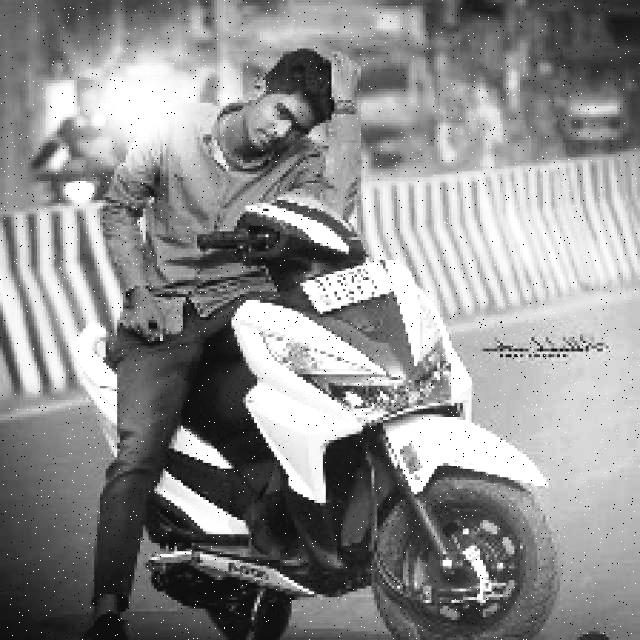Bike: (63, 269, 556, 639)
